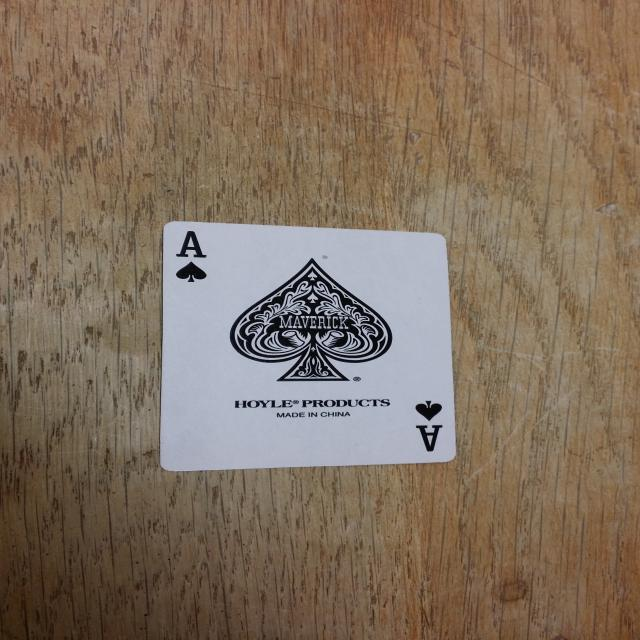As: (169, 226, 223, 288), (408, 397, 452, 458)
